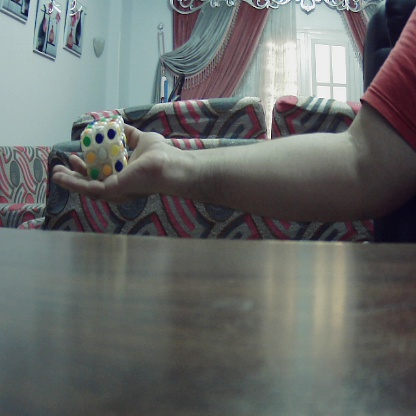Rubix Cube: (81, 117, 126, 176)
